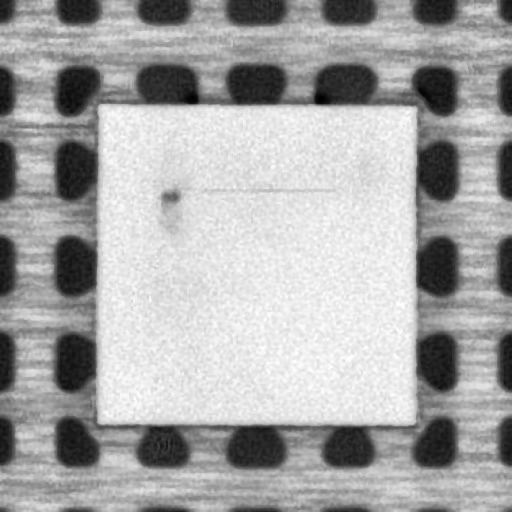DIE_CRACK: (192, 180, 338, 196)
